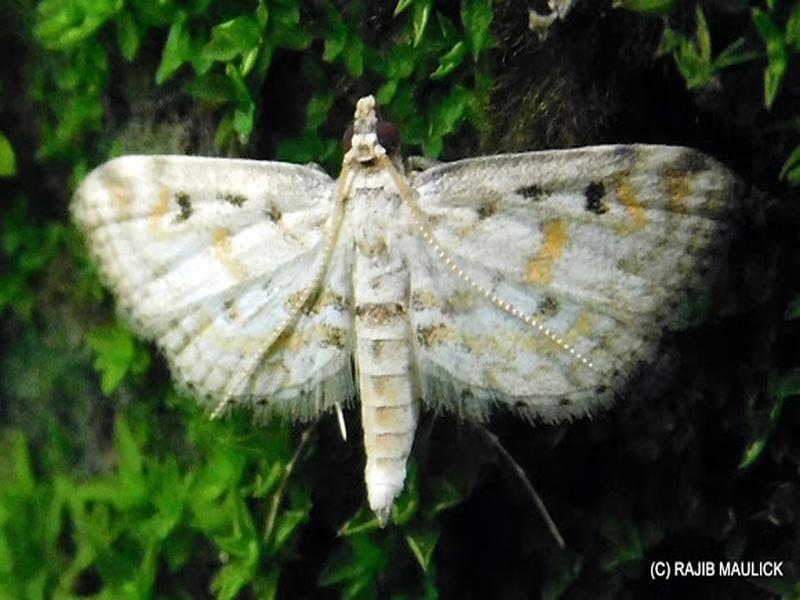Rice_case_worm: (70, 80, 741, 465)
